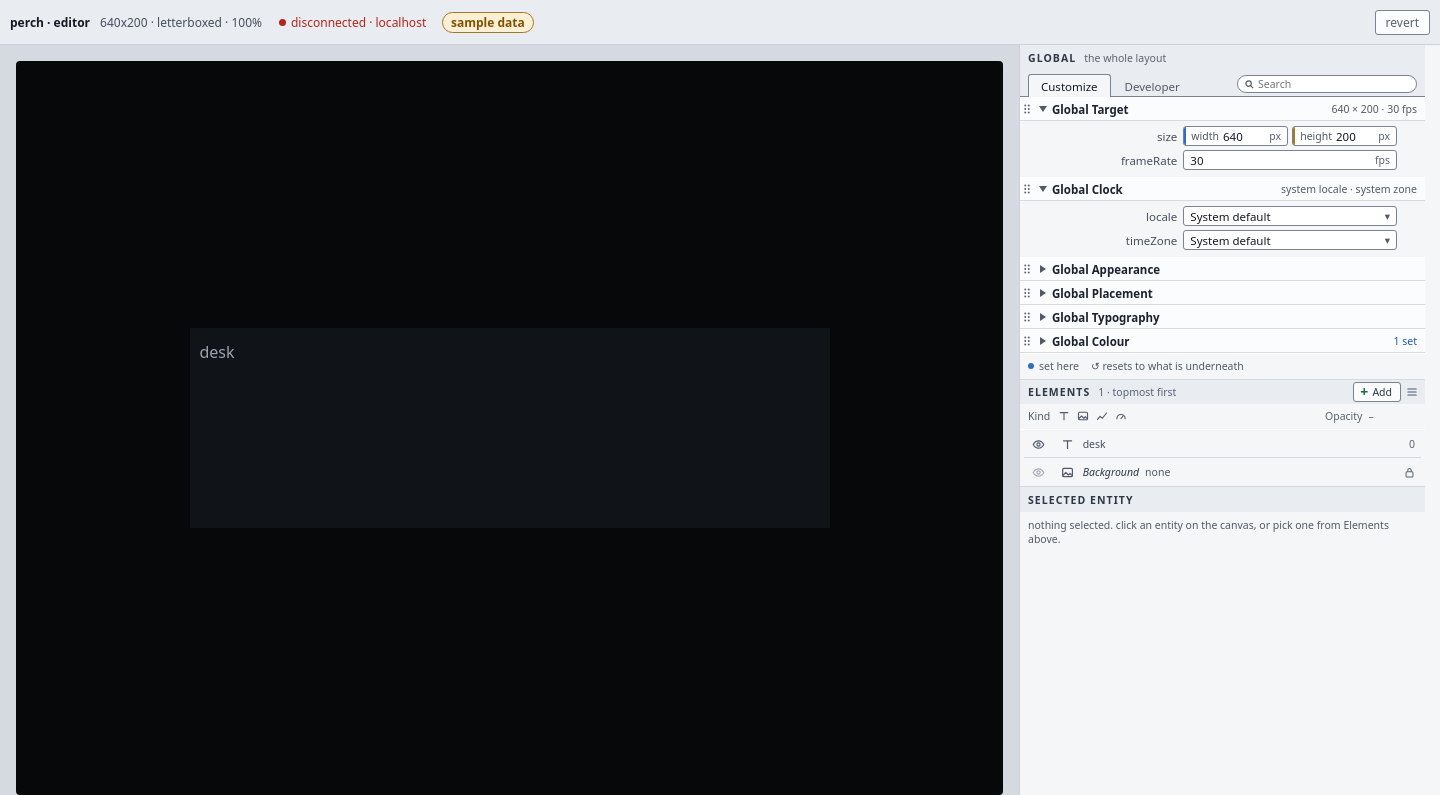
Test: Save As › asks where, then writes under the name the host registered, clean, history kept
Click the button "desk 0": click(1067, 444) [1052,430,1421,458]
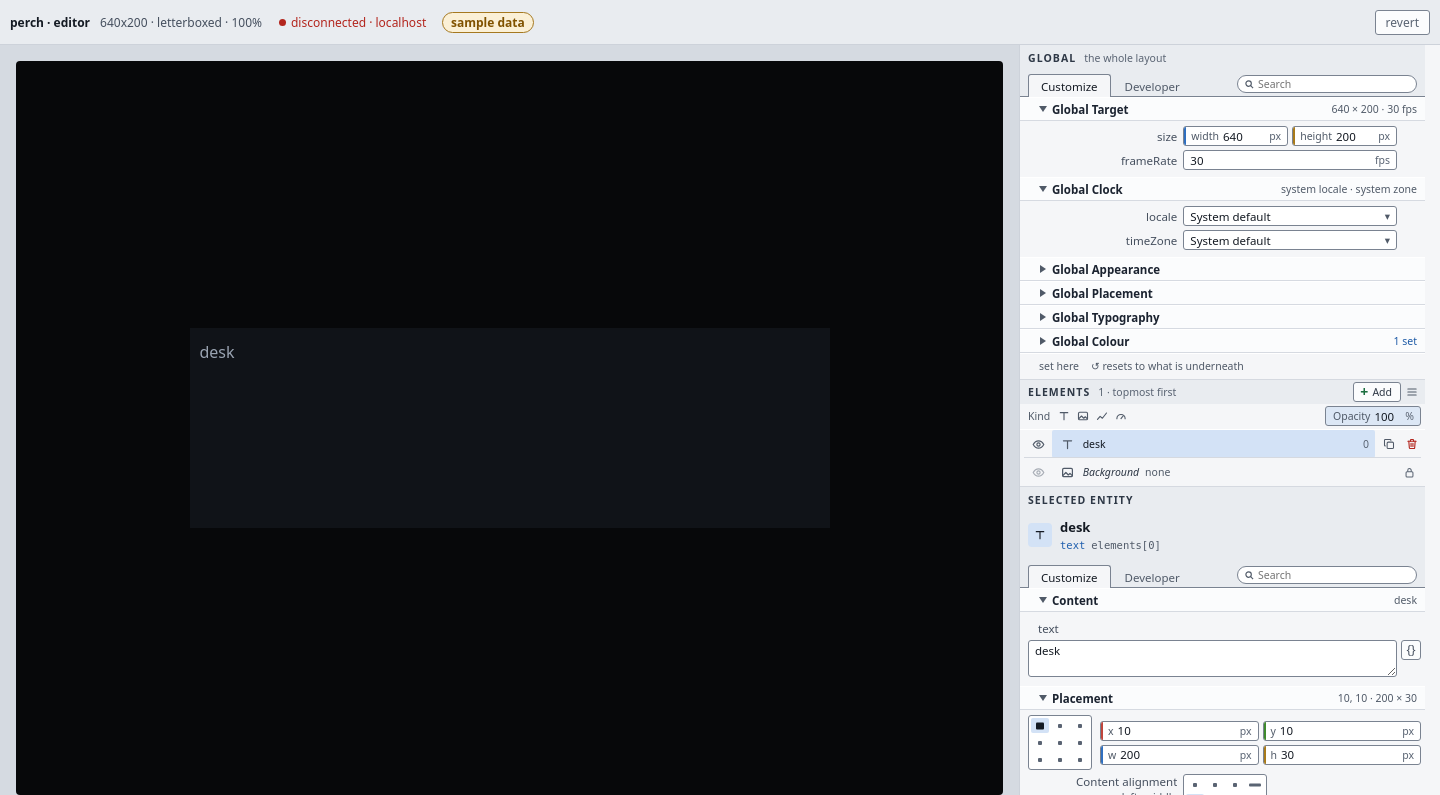
Replace the text in the number field labelled "w" with "150": (1179, 755) [1118,746,1240,764]
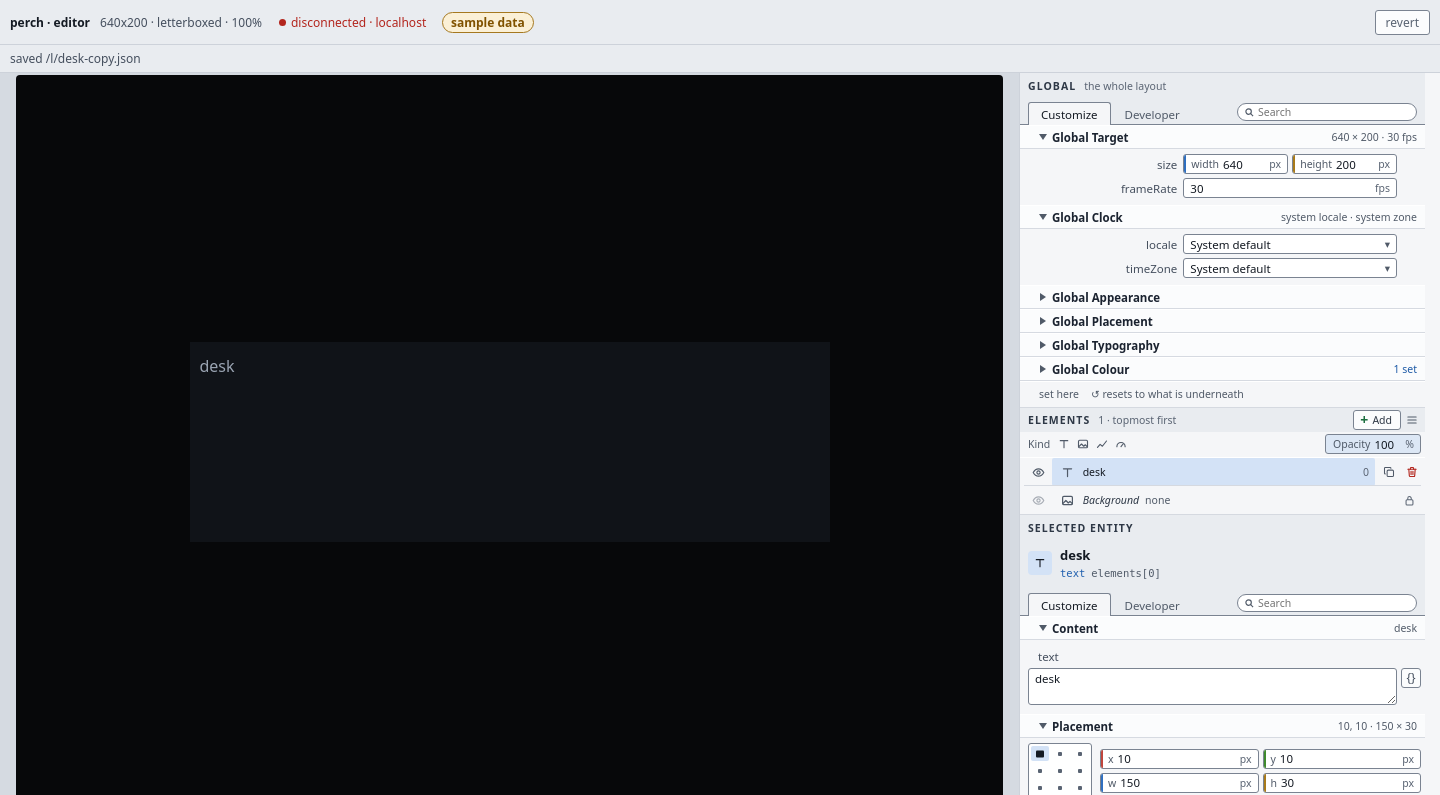
Now the text "saved /l/desk-copy.json" is shown, box [0,45,1439,73]
